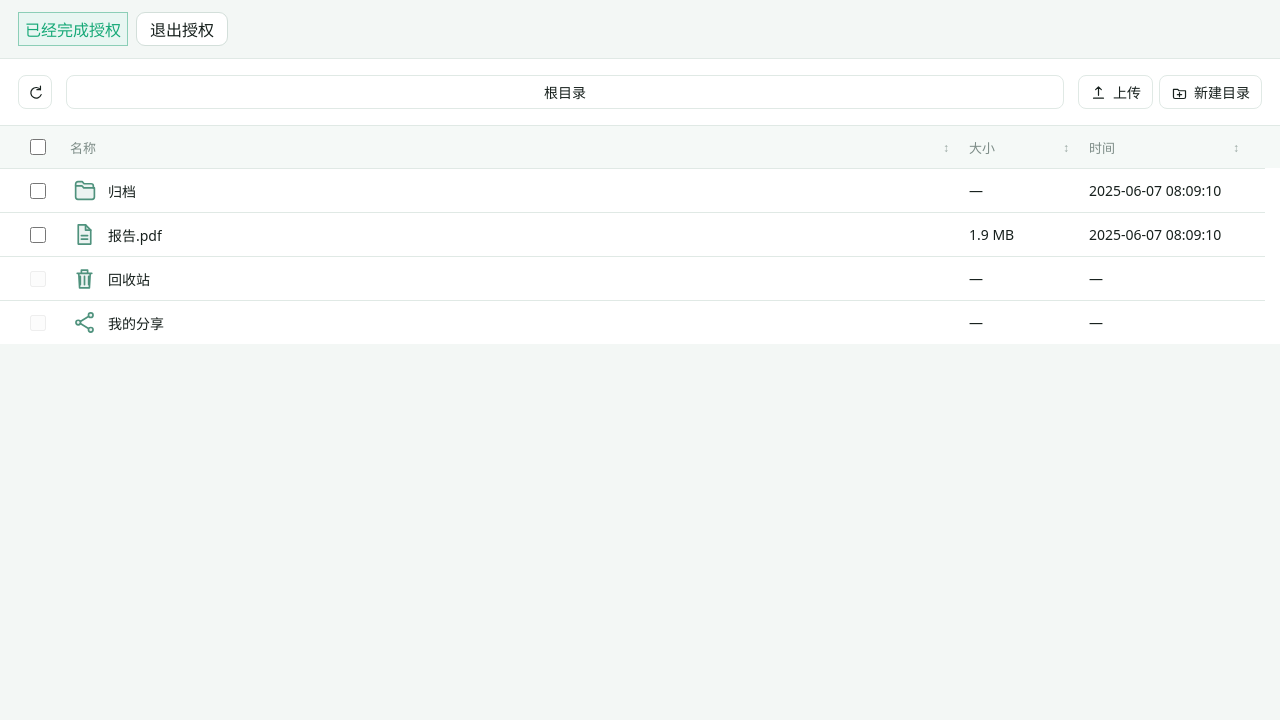
Scenario: ignores a late control failure after the upload terminal event arrives
The image size is (1280, 720).
Expected: the element named "夸克网盘文件" is shown, [0,126,1279,344]
Step 1. Click the button "上传" → (1116, 92), box [1078,75,1153,109]
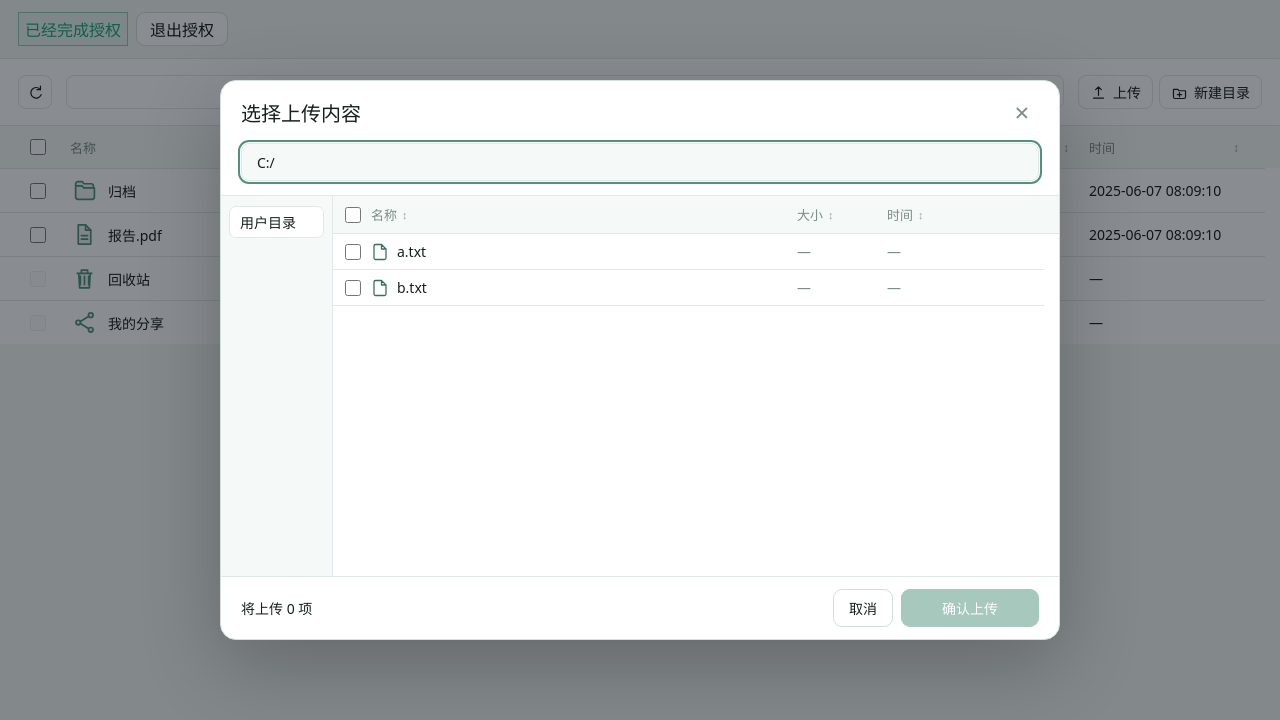
Step 2. Click the checkbox named "全选当前目录" → (353, 214), box [345,206,361,222]
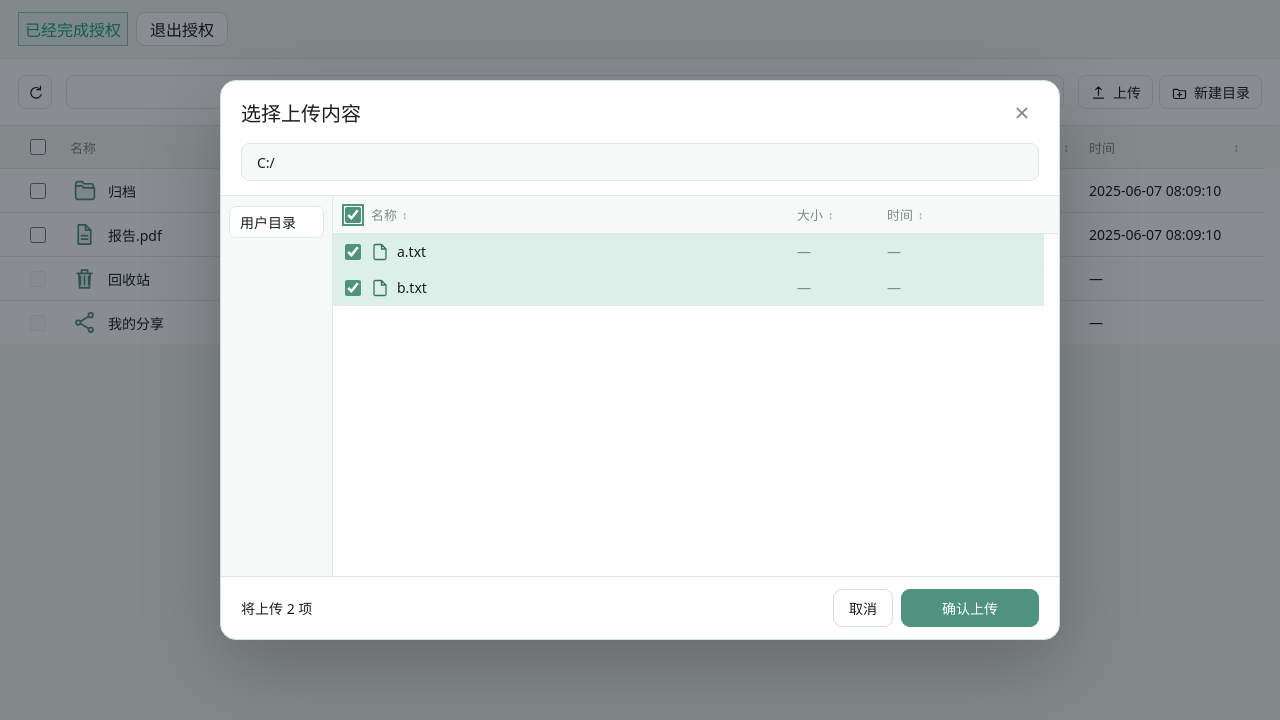
Step 3. Click the button "确认上传" → (970, 608), box [901,589,1039,627]
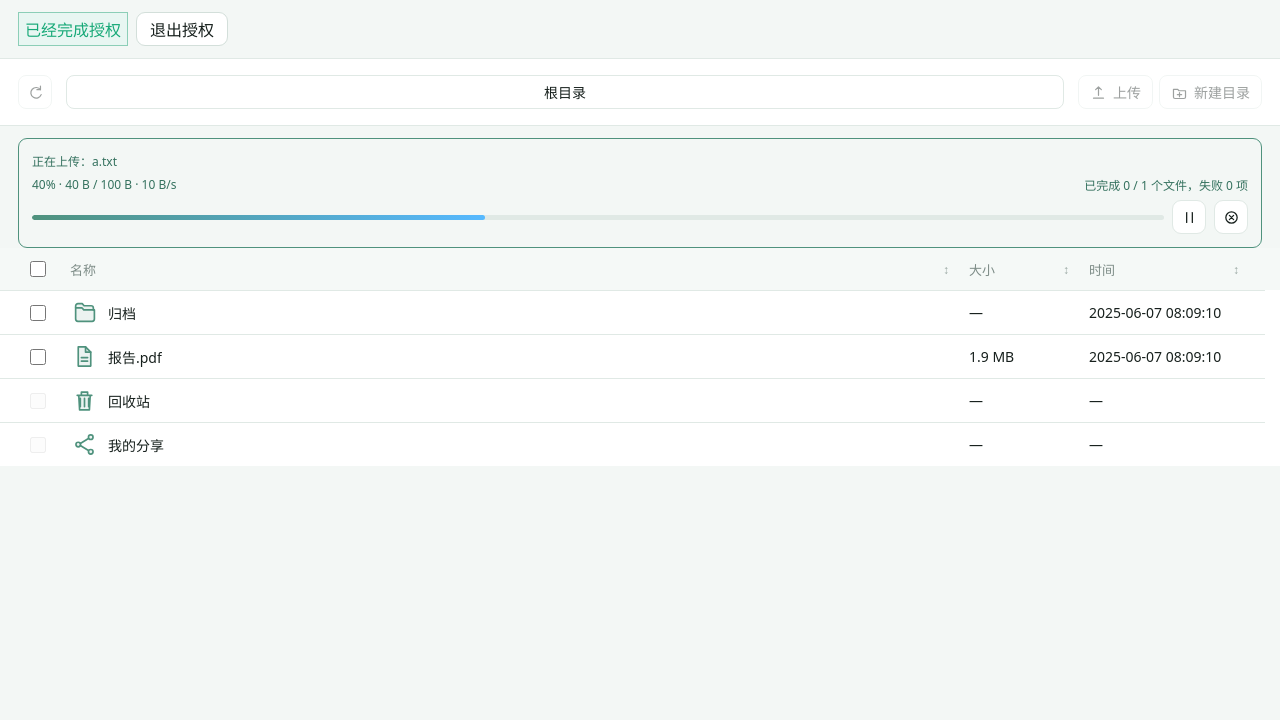
Step 4. Click the button named "暂停上传" → (1189, 217), box [1172,200,1206,234]
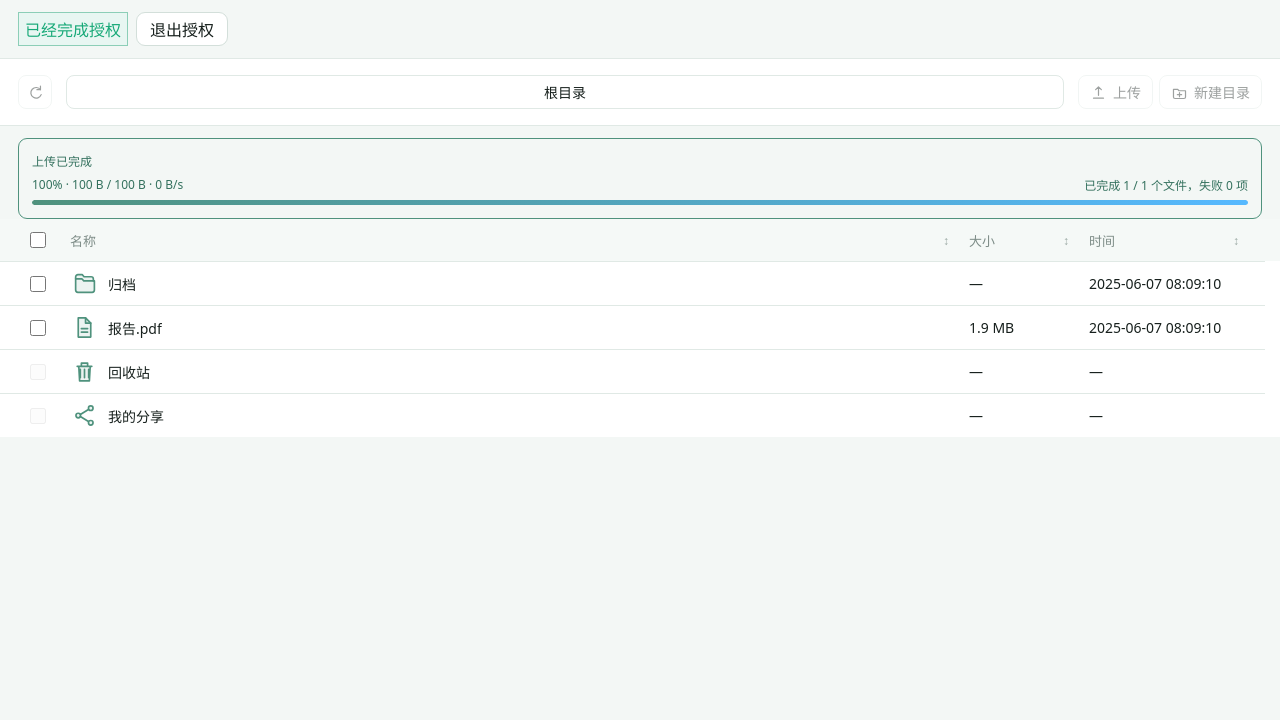
Now the text "上传已完成" is shown, box [32,153,92,170]
Now the button "暂停上传" is gone
